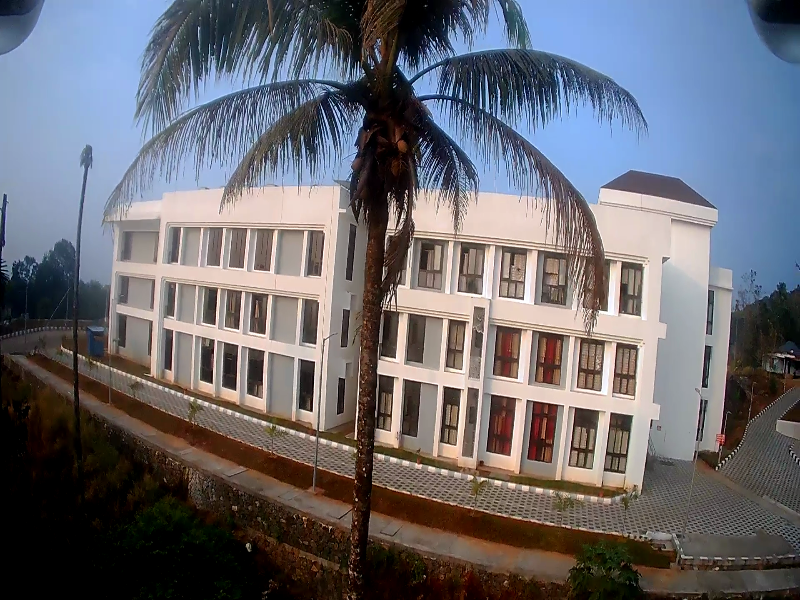coconut: (350, 157, 363, 171), (399, 141, 410, 154)
